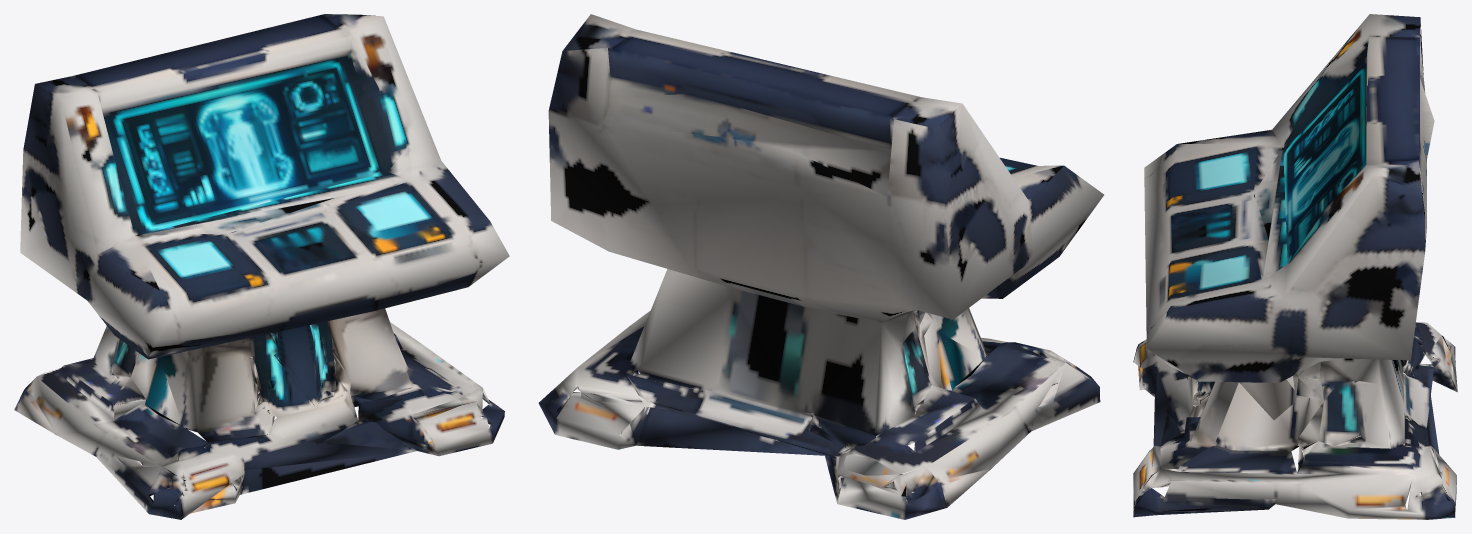
Rendered from cryo-diagnostic-console_LOD1.glb.
The picture shows the model from 3 angles, left to right: view 1: azimuth 30°, elevation 25°; view 2: azimuth 150°, elevation 25°; view 3: azimuth 270°, elevation 25°; orthographic projection. The views are drawn at different scales.
Parts seen in each view (by area): view 1: cryo-diagnostic-console_LOD1; view 2: cryo-diagnostic-console_LOD1; view 3: cryo-diagnostic-console_LOD1.
Part boxes in pixels (left/top/right/bottom): cryo-diagnostic-console_LOD1: left=14, top=14, right=509, bottom=519; cryo-diagnostic-console_LOD1: left=538, top=14, right=1104, bottom=519; cryo-diagnostic-console_LOD1: left=1133, top=14, right=1457, bottom=519.
Bounding box in the file's own units: 1.26 × 1.14 × 0.9682.
1 material, 1 textured.
